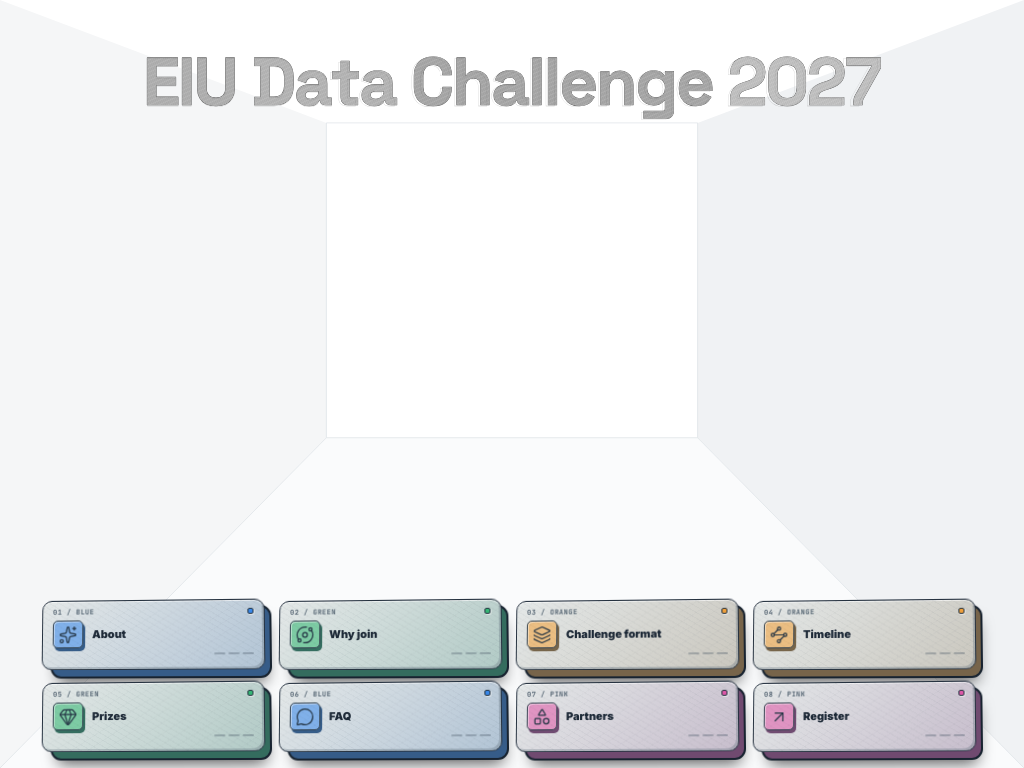
Test: AI command experience › selects a neural idea and a skill module
The image size is (1024, 768).
Click the button "01 / Blue About".
click(154, 635)  # box [42,599,265,670]
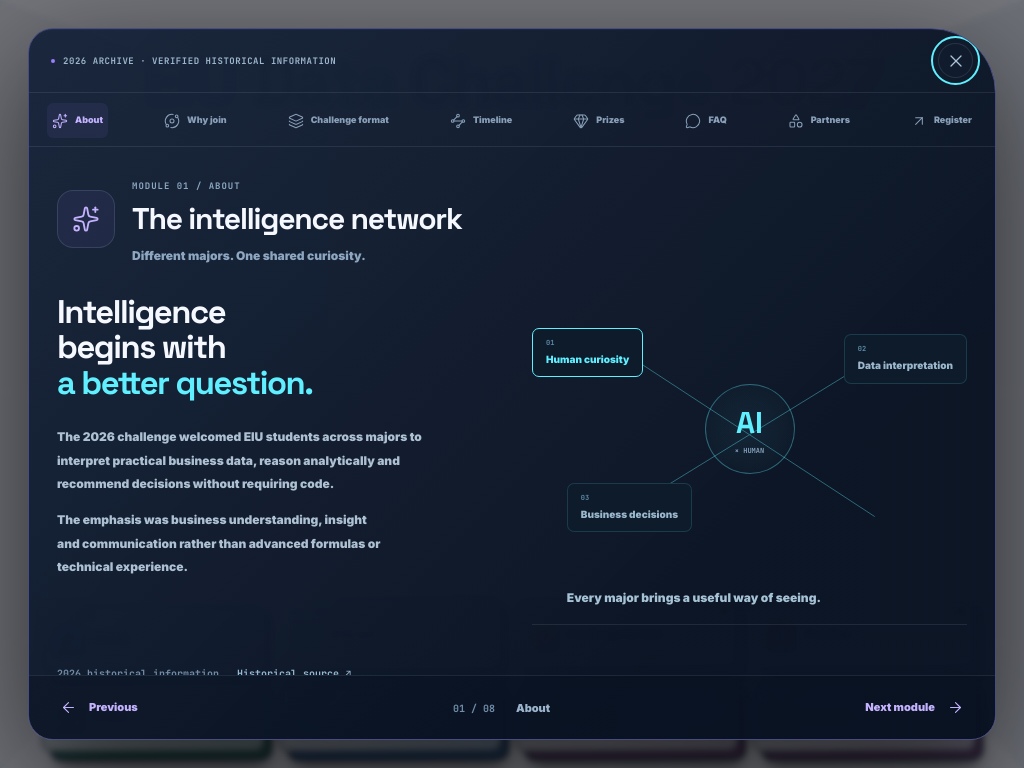
Click the button "03 Business decisions".
click(629, 507)  # box [567,482,692,532]
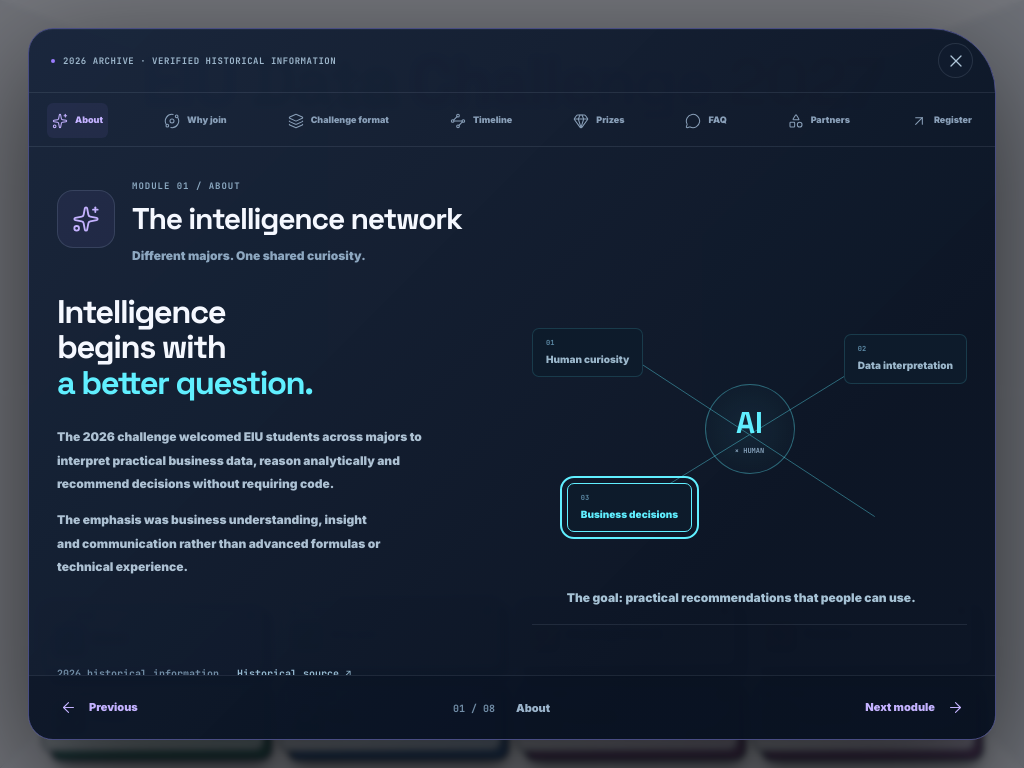
Now the text "The goal: practical recommendations that people can use." is shown, box [567,587,954,609]
Click the button with aria-label "02. Why join".
click(195, 120)  # box [159,103,232,138]
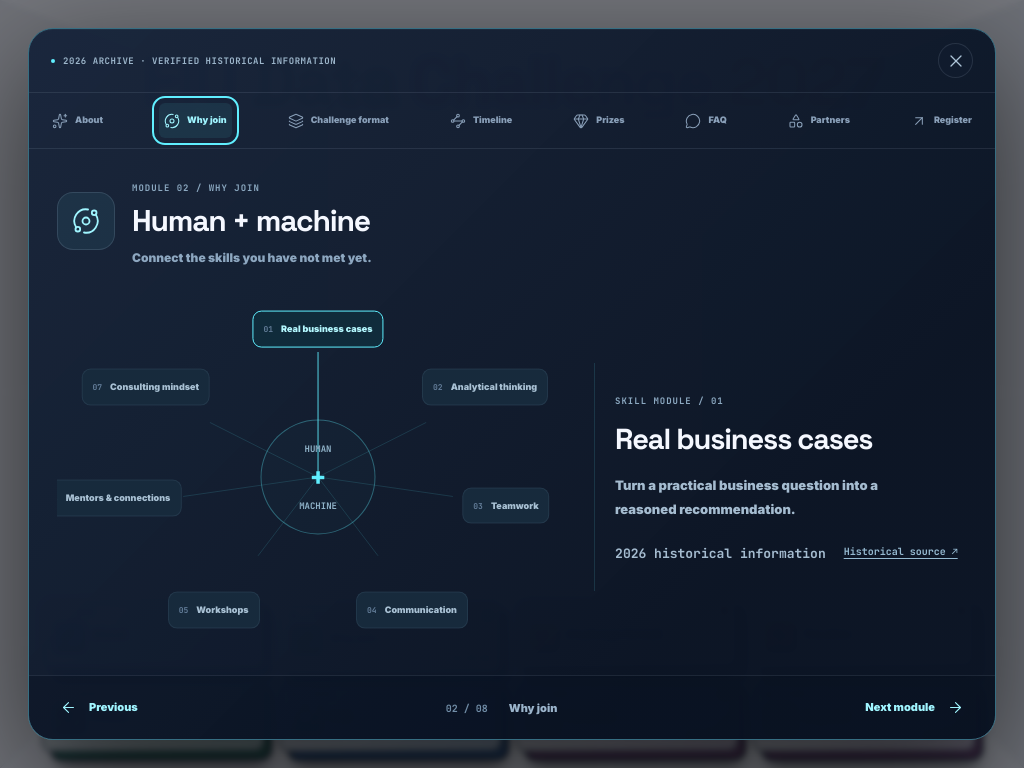
Now the heading "Human + machine" is shown, box [132,204,372,238]
Click the button "05Workshops".
click(214, 610)  # box [168,592,260,628]
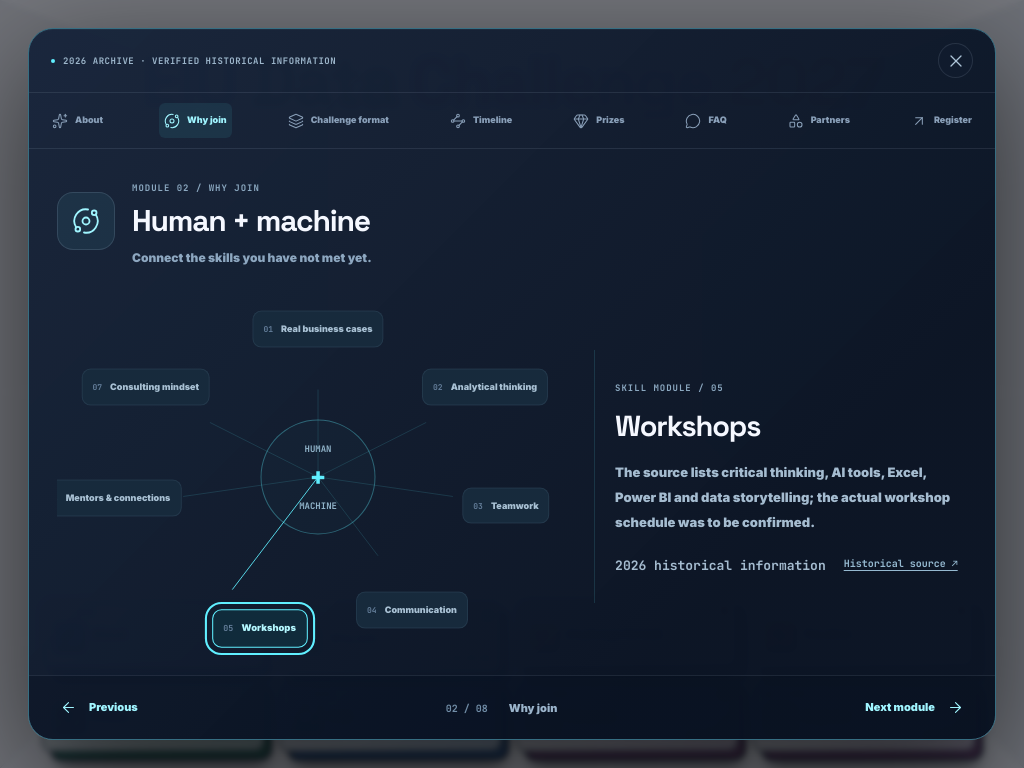
Now the heading "Workshops" is shown, box [615,407,760,444]
